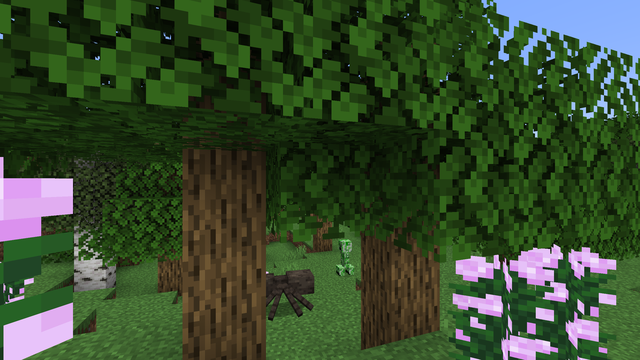araignees: (266, 262, 309, 316)
creepers: (336, 238, 352, 276)
